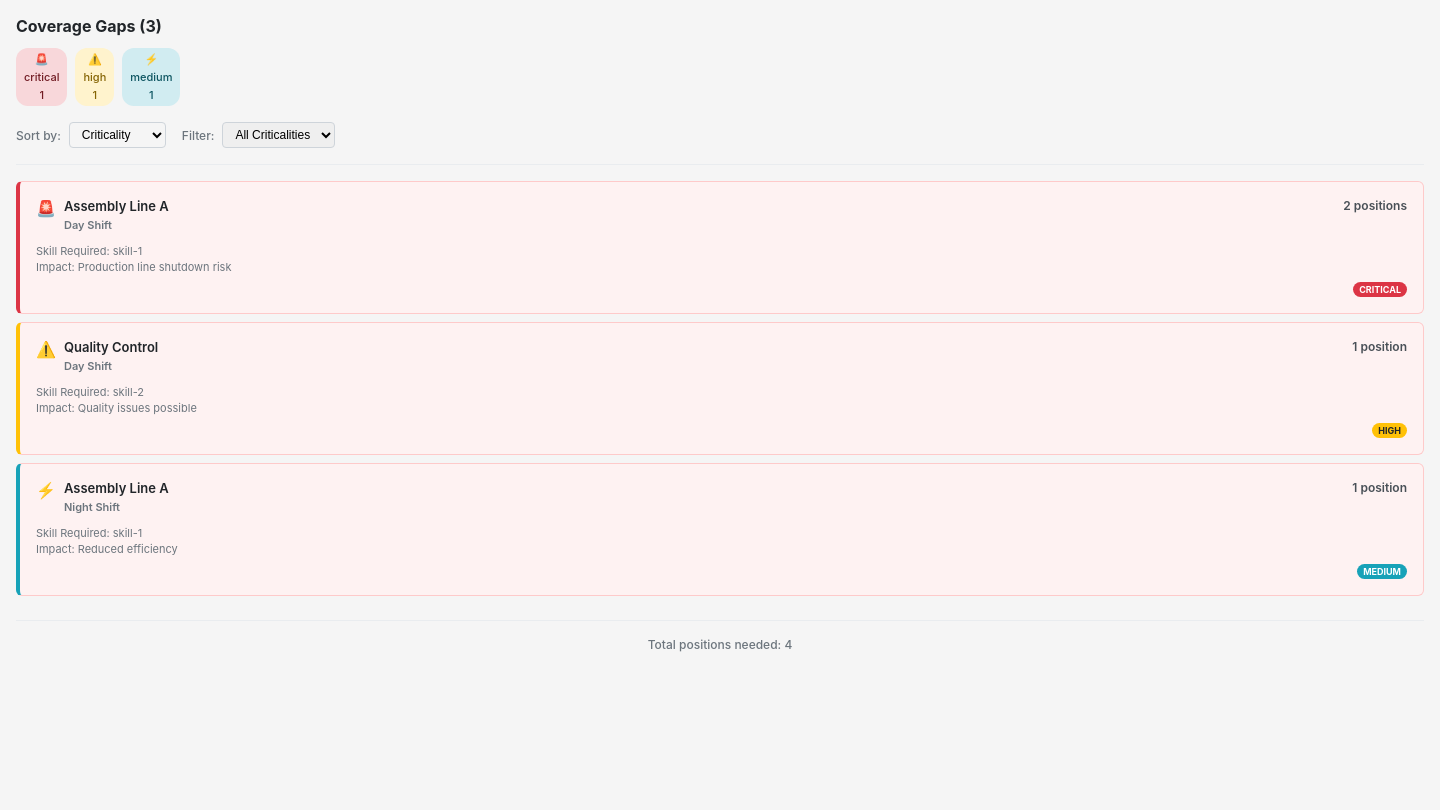
GapList › filters gaps by criticality
This screenshot has width=1440, height=810.
Select "Critical" in the dropdown showing "All Criticalities" next to "Filter:": (279,135) top-left (222, 122), bottom-right (336, 148)
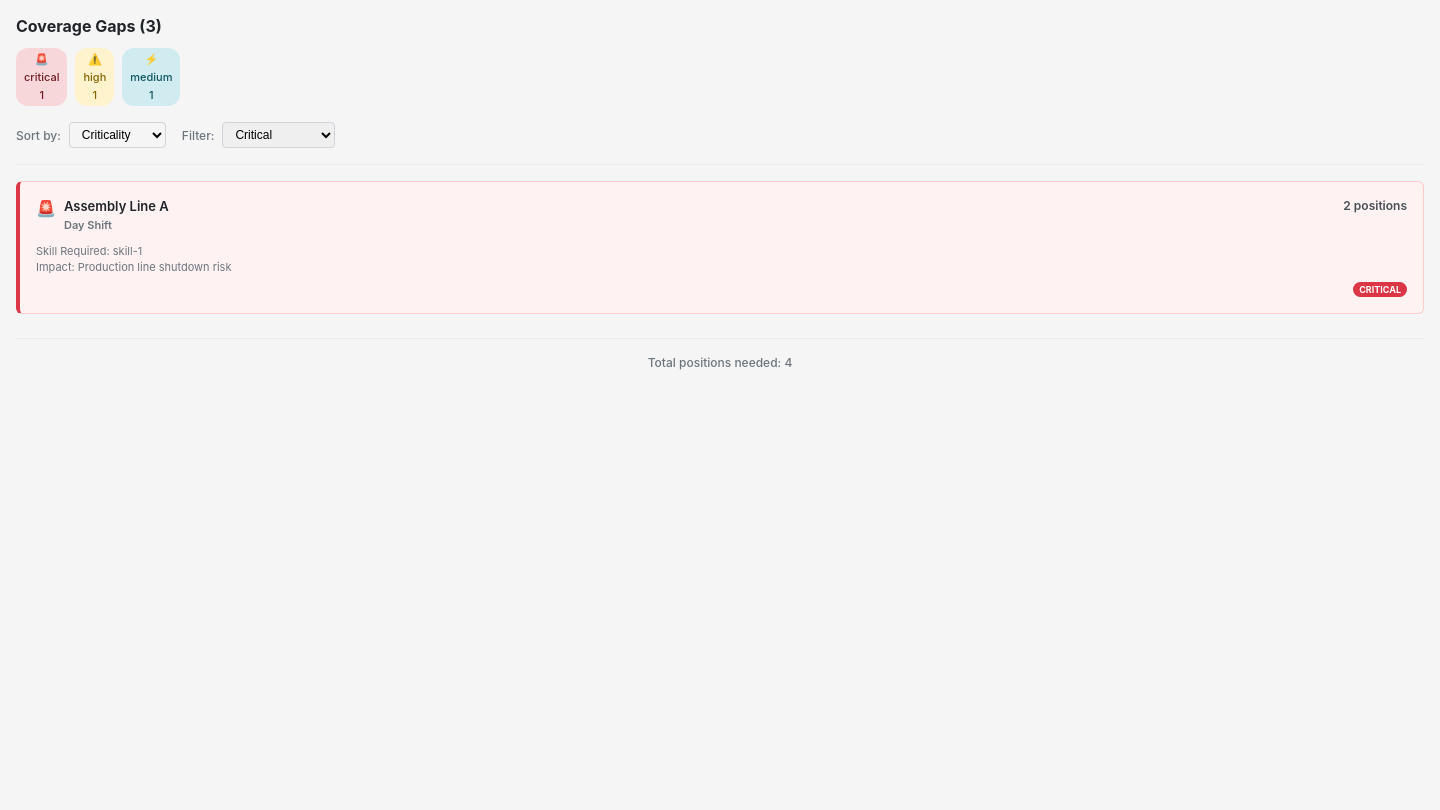
Expected: the text "Assembly Line A" is shown once, top-left (64, 198), bottom-right (169, 214)
Result: the text "Quality Control" is gone
